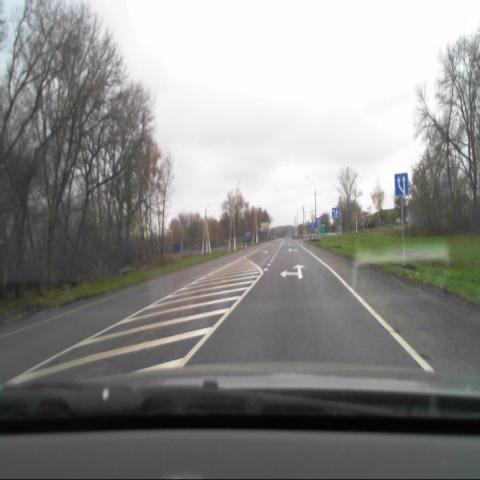5_15_3: (394, 173, 408, 195)
